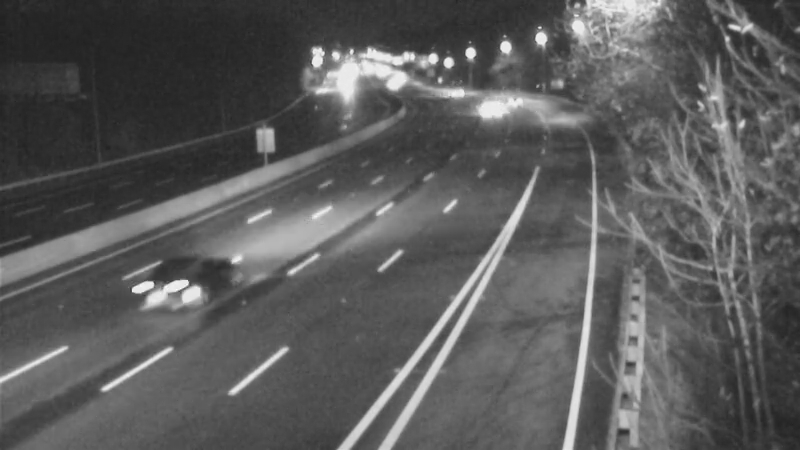vehicle: (132, 248, 212, 328), (433, 67, 483, 117), (483, 77, 533, 127), (461, 86, 511, 136)
